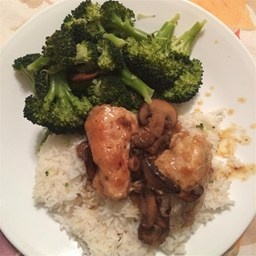background: (4, 0, 102, 102)
